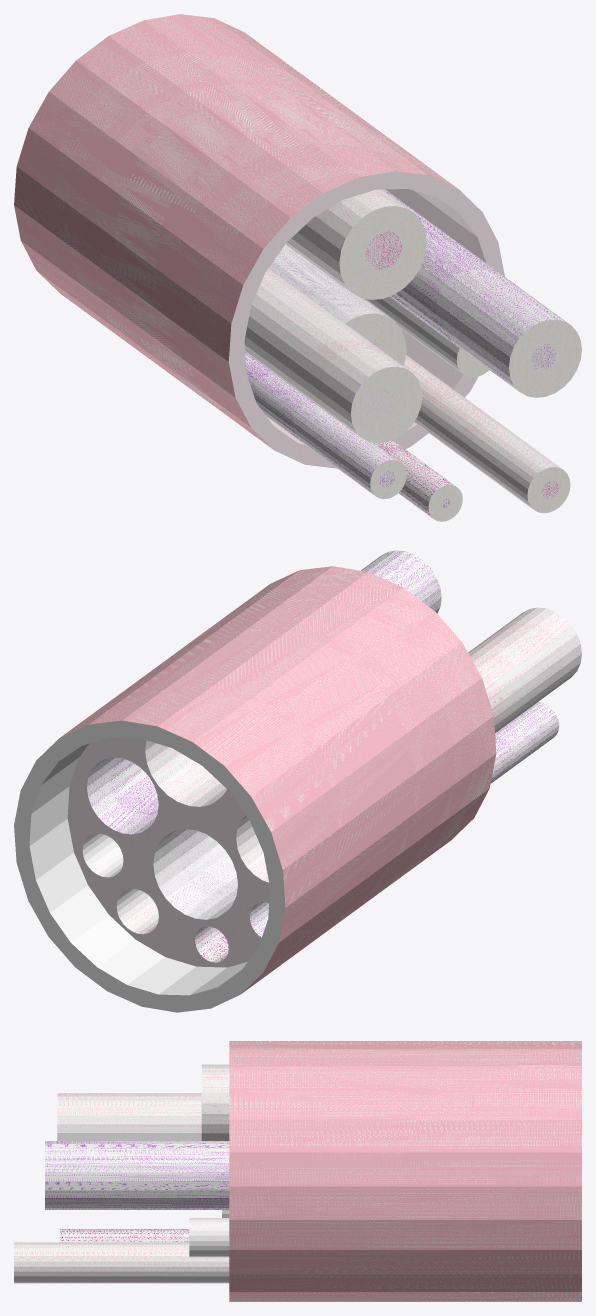
The picture shows the model from 3 angles, top to bottom: view 1: azimuth 30°, elevation 25°; view 2: azimuth 150°, elevation 25°; view 3: azimuth 270°, elevation 25°; orthographic projection. The views are drawn at different scales.
Parts seen in each view (by area): view 1: pink pencils; view 2: pink pencils; view 3: pink pencils.
Part boxes in pixels (<box>): pink pencils: <box>14,14,581,521</box>; pink pencils: <box>14,550,581,1012</box>; pink pencils: <box>14,1041,581,1301</box>.
Bounding box in the file's own units: 189 × 189 × 410.
